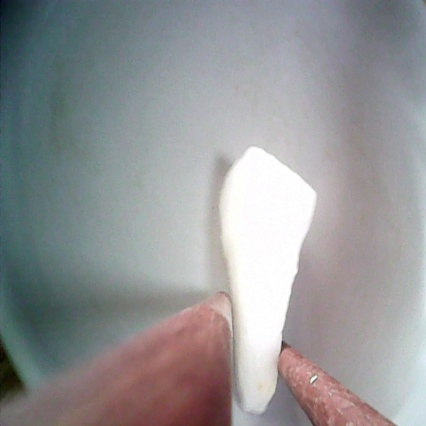white_chinese-yam: (209, 146, 319, 415)
